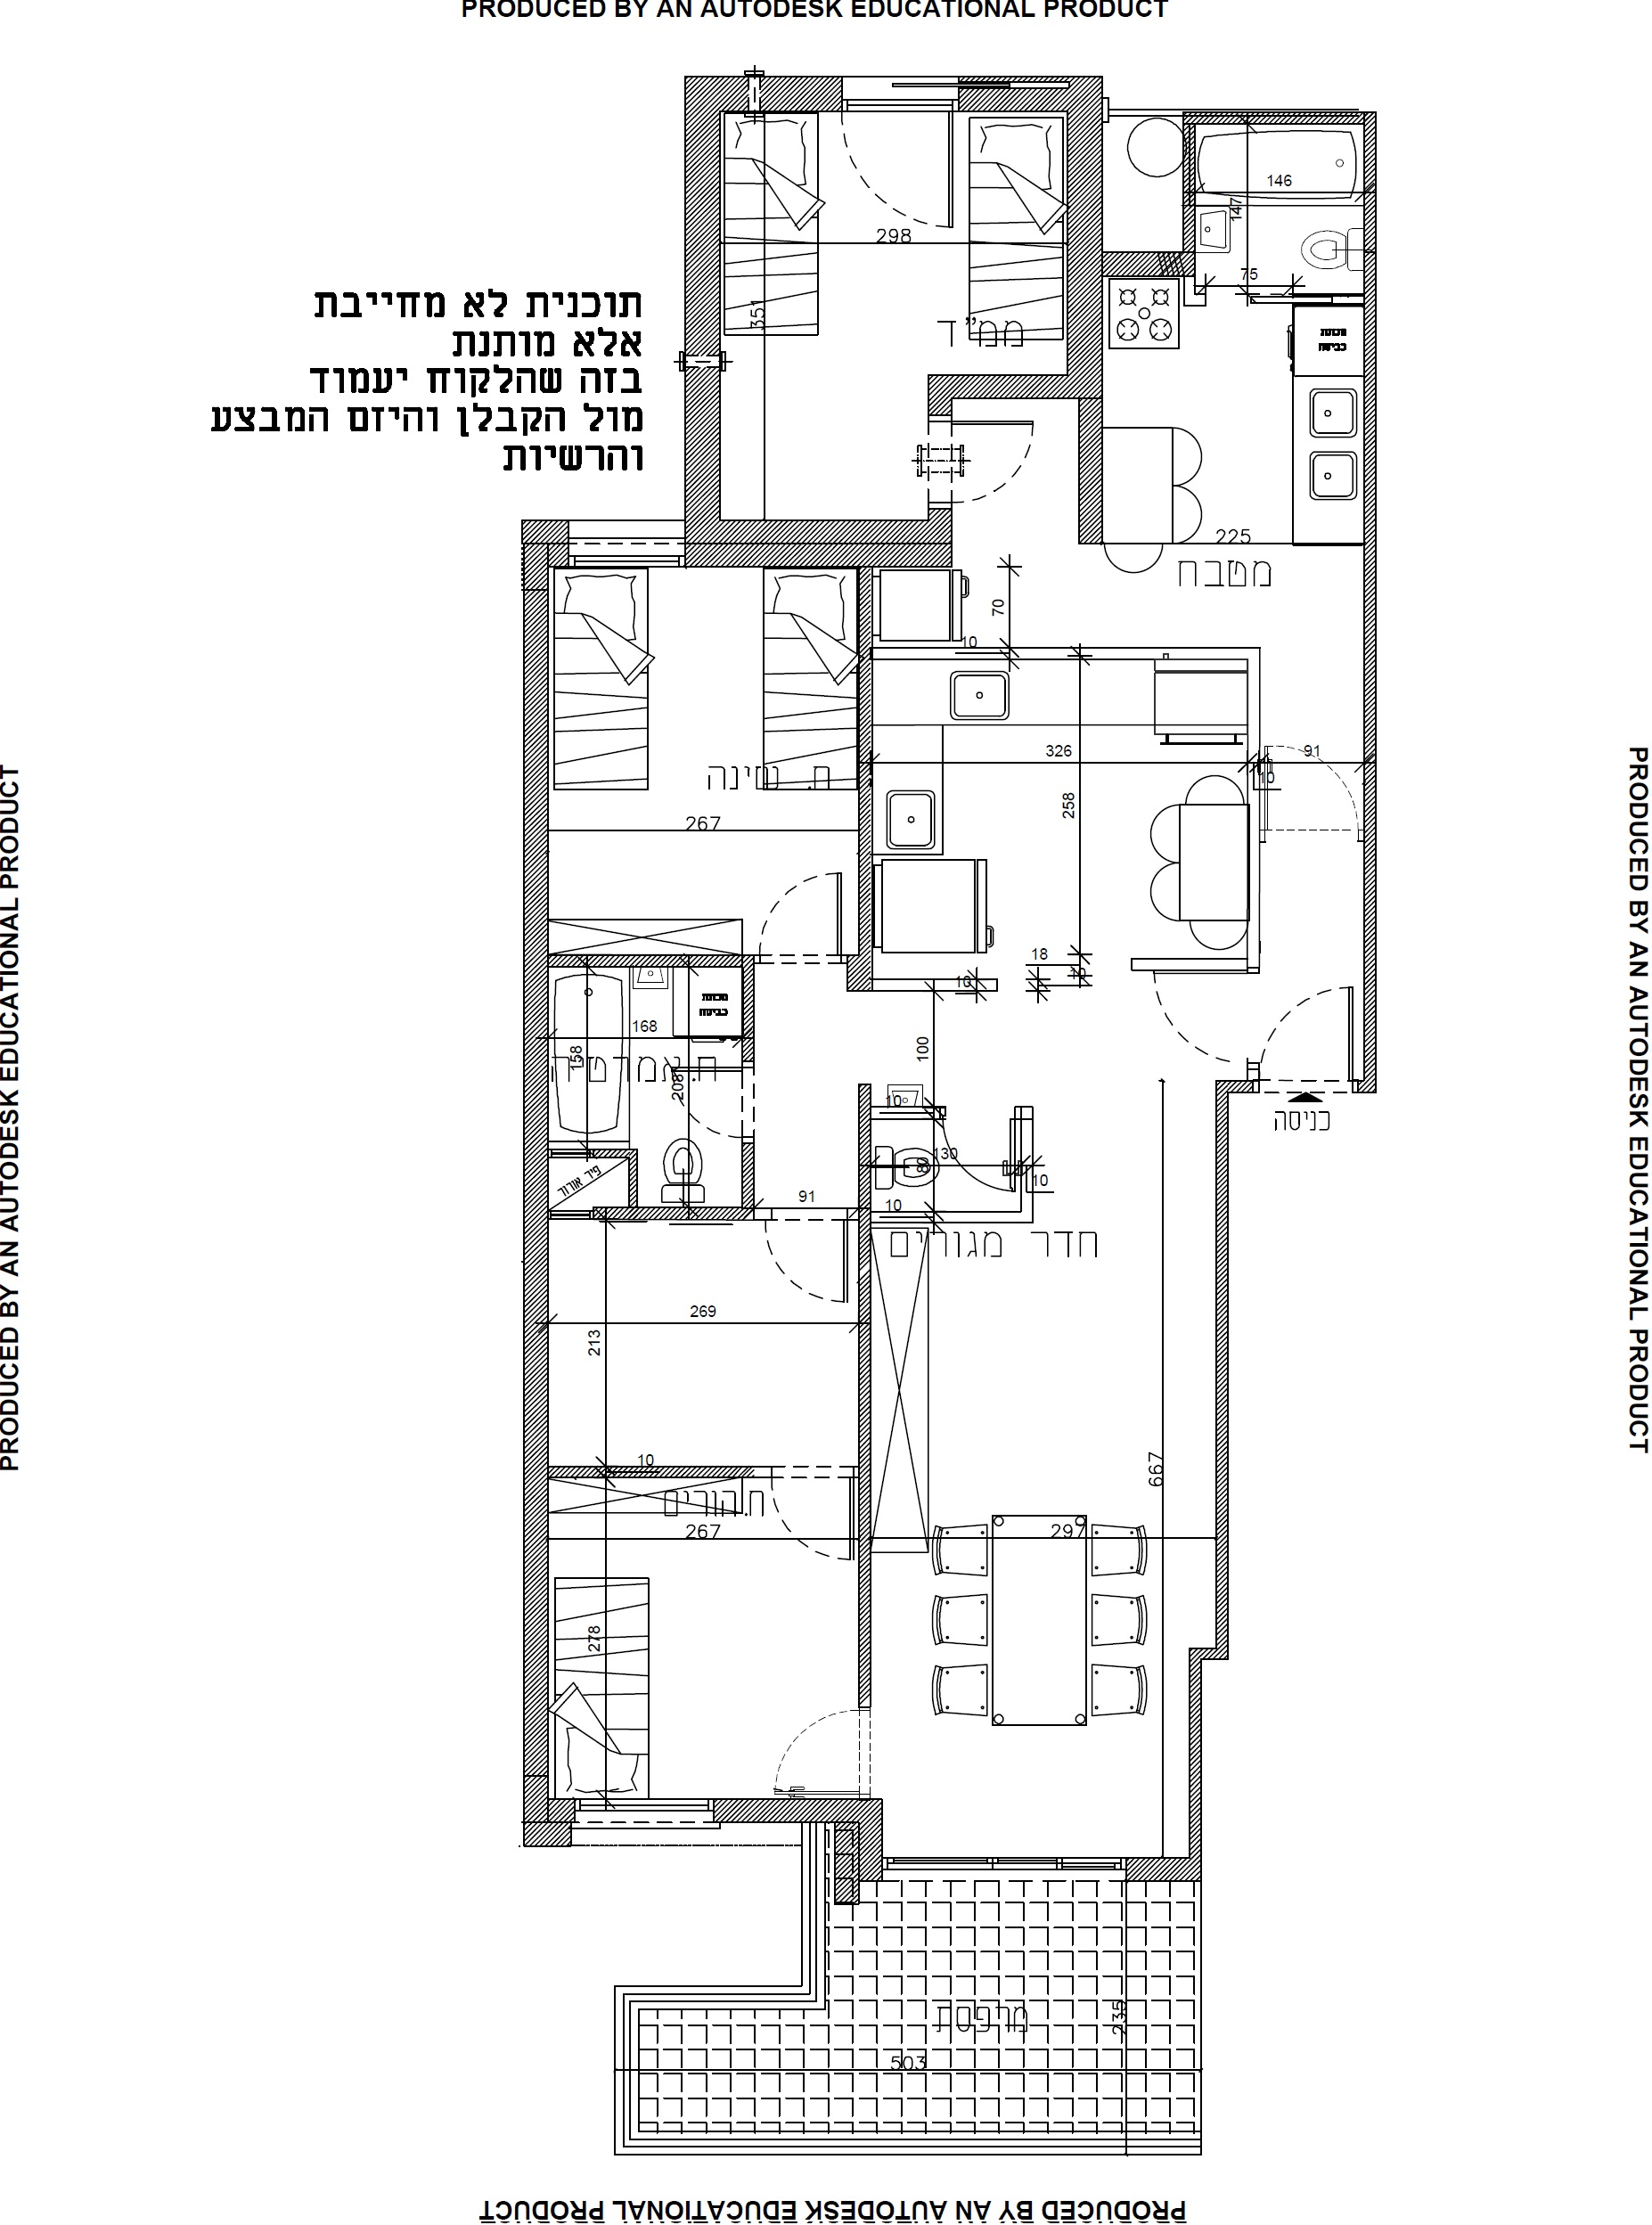door: (1260, 732, 1364, 831), (755, 1477, 859, 1576), (757, 1697, 861, 1796), (1140, 970, 1242, 1069), (748, 852, 850, 951), (953, 411, 1055, 510), (750, 1222, 852, 1321), (1253, 984, 1359, 1074)
wall: (522, 521, 548, 1821), (1362, 113, 1376, 1092), (1067, 76, 1102, 397), (725, 521, 954, 569), (687, 76, 717, 356), (1215, 1080, 1229, 1663), (684, 373, 718, 568), (1076, 397, 1102, 547), (930, 377, 1065, 401)
window: (567, 517, 685, 569), (882, 1855, 1126, 1880)
